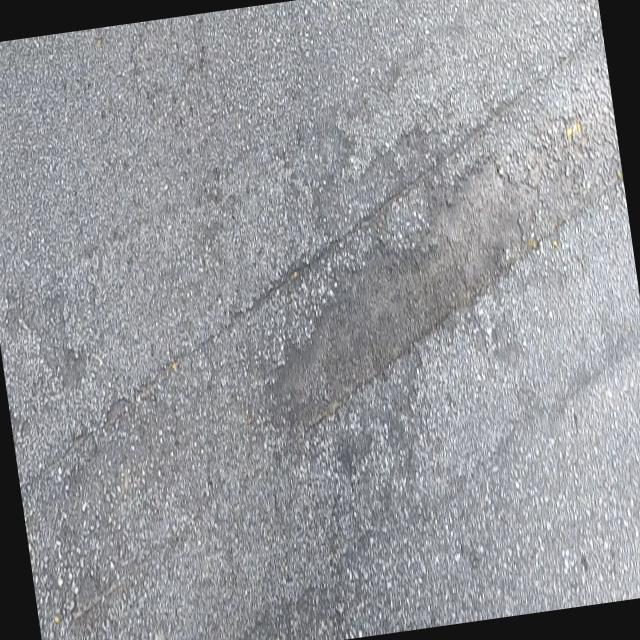Retak-Melintang: (23, 25, 601, 489), (305, 170, 623, 435)
